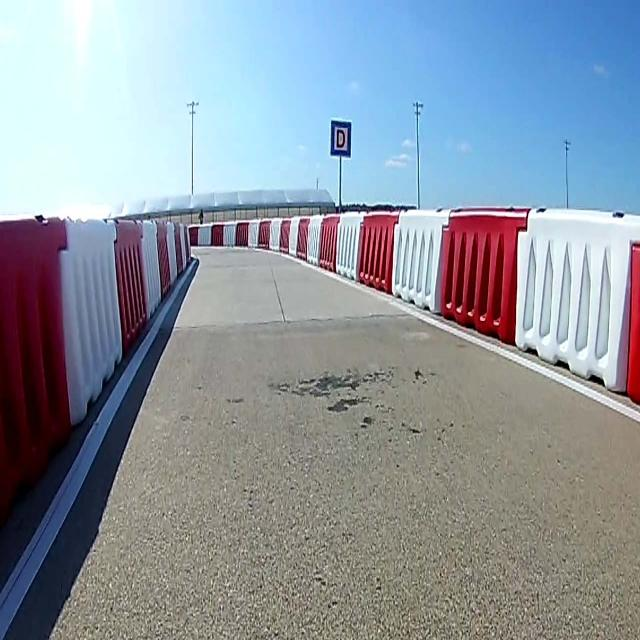durak: (331, 120, 352, 158)
